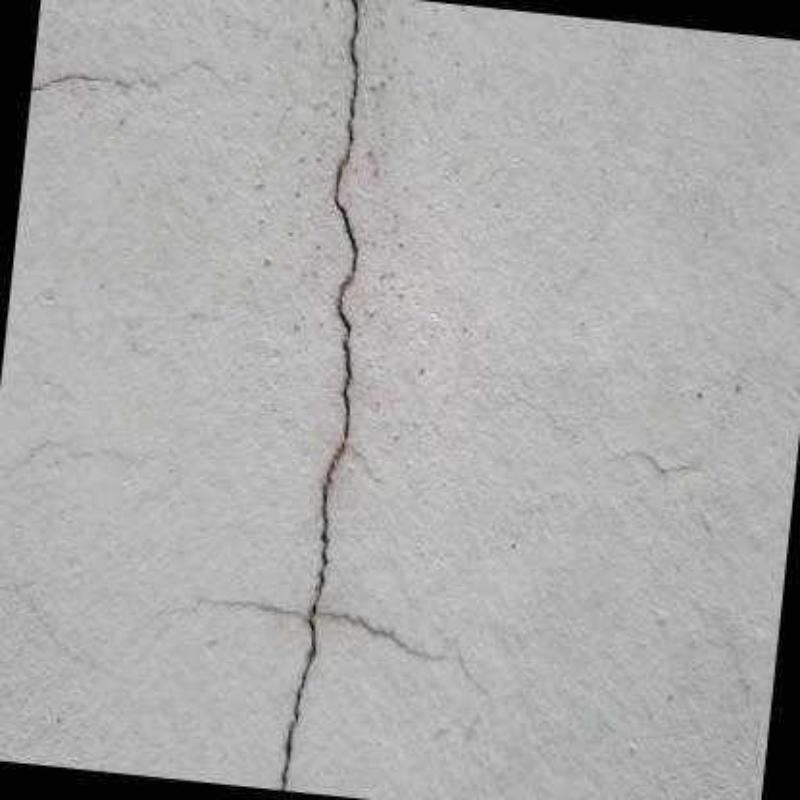crack: (274, 0, 363, 791), (317, 613, 438, 662), (31, 73, 106, 92)
